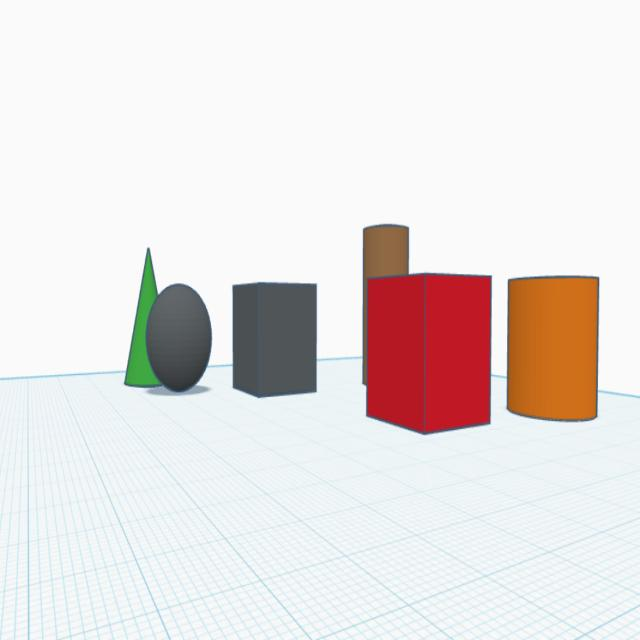cube: (364, 266, 495, 440), (229, 272, 319, 400)
sphere: (143, 280, 213, 394)
